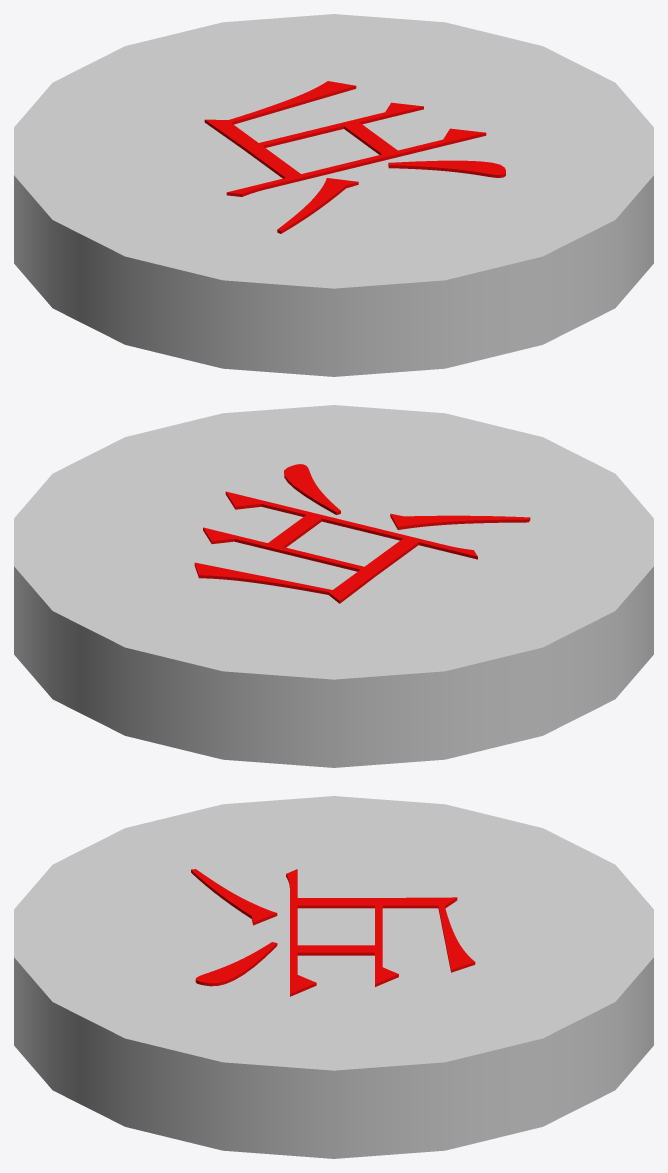
The picture shows the model from 3 angles, top to bottom: view 1: azimuth 30°, elevation 25°; view 2: azimuth 150°, elevation 25°; view 3: azimuth 270°, elevation 25°; orthographic projection.
Visible parts, largest first — view 1: Cylinder001, Text001; view 2: Cylinder001, Text001; view 3: Cylinder001, Text001.
Part boxes in pixels (x1,y1,x2,y2): Cylinder001: [14, 14, 653, 376]; Text001: [204, 81, 505, 233]; Cylinder001: [14, 405, 653, 767]; Text001: [194, 464, 530, 603]; Cylinder001: [14, 796, 653, 1158]; Text001: [191, 869, 475, 996].
Size of the model in its own units: 20 by 19.7 by 3.1.
